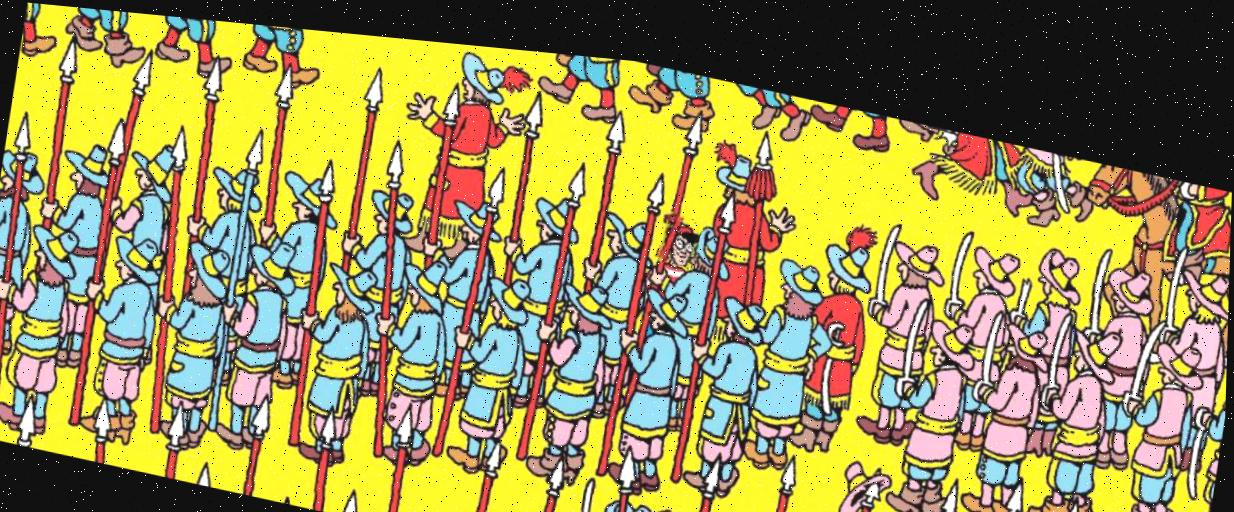waldo: (655, 195, 703, 256)
